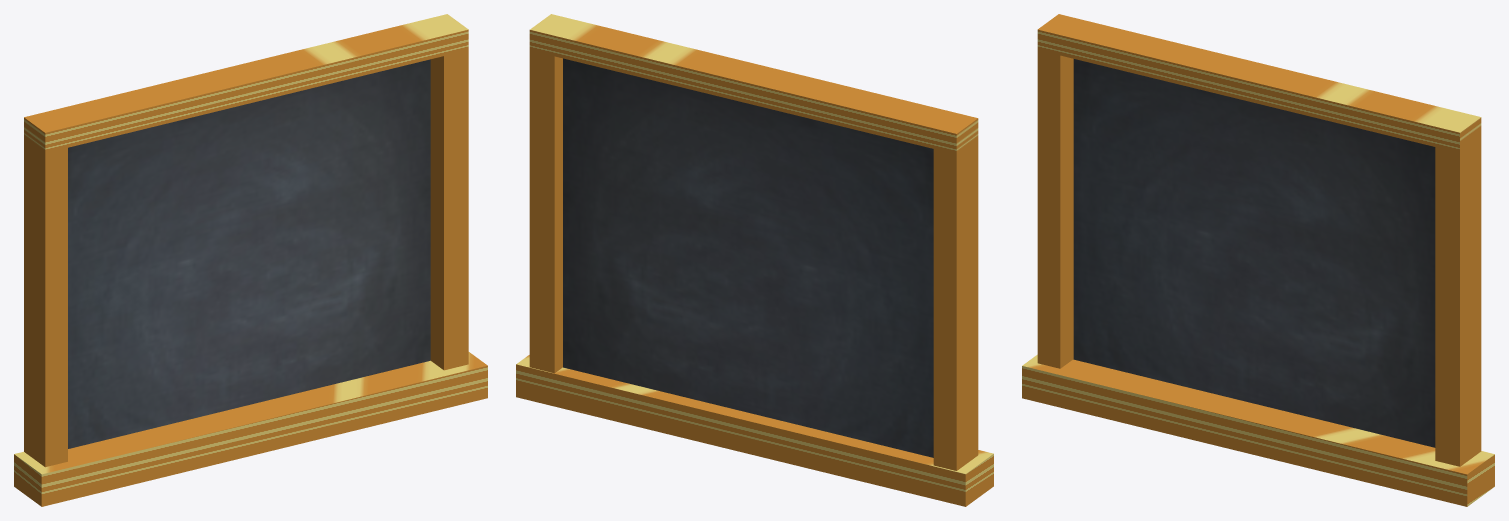
File: bboard1.obj
The picture shows the model from 3 angles, left to right: view 1: azimuth 30°, elevation 25°; view 2: azimuth 150°, elevation 25°; view 3: azimuth 330°, elevation 25°; orthographic projection.
Visible parts, largest first — view 1: polySurface1; view 2: polySurface1; view 3: polySurface1.
Part boxes in pixels (x1,y1,x2,y2): polySurface1: [14, 14, 487, 506]; polySurface1: [516, 14, 993, 506]; polySurface1: [1022, 14, 1494, 506].
Bounding box in the file's own units: 75.59 × 59.48 × 8.18.
2 materials, 2 textured.
